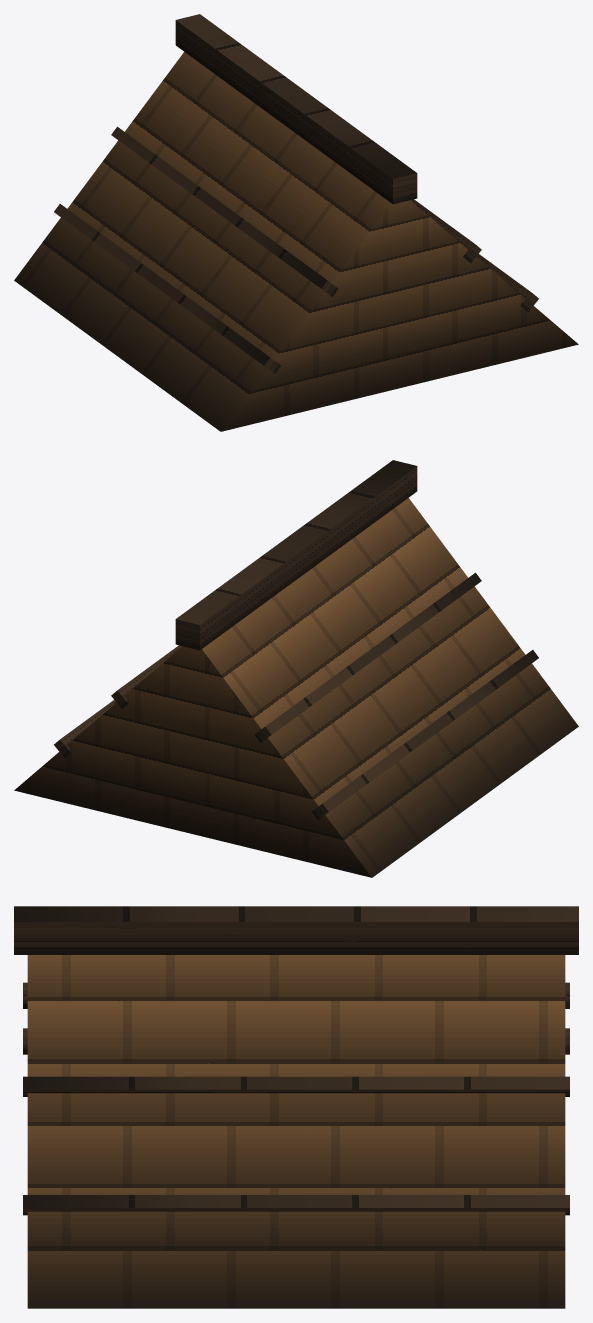
Rendered from roof_gable_shake.gltf.
The picture shows the model from 3 angles, top to bottom: view 1: azimuth 30°, elevation 25°; view 2: azimuth 150°, elevation 25°; view 3: azimuth 270°, elevation 25°; orthographic projection. The views are drawn at different scales.
Visible parts, largest first — view 1: roof_gable_shake; view 2: roof_gable_shake; view 3: roof_gable_shake.
Boxes of the visible parts, left/top/right/bottom form: roof_gable_shake: left=14, top=14, right=578, bottom=431; roof_gable_shake: left=14, top=460, right=578, bottom=877; roof_gable_shake: left=14, top=906, right=578, bottom=1308.
Size of the model in its own units: 1.18 by 0.68 by 1.24.
1 material, 1 textured.
